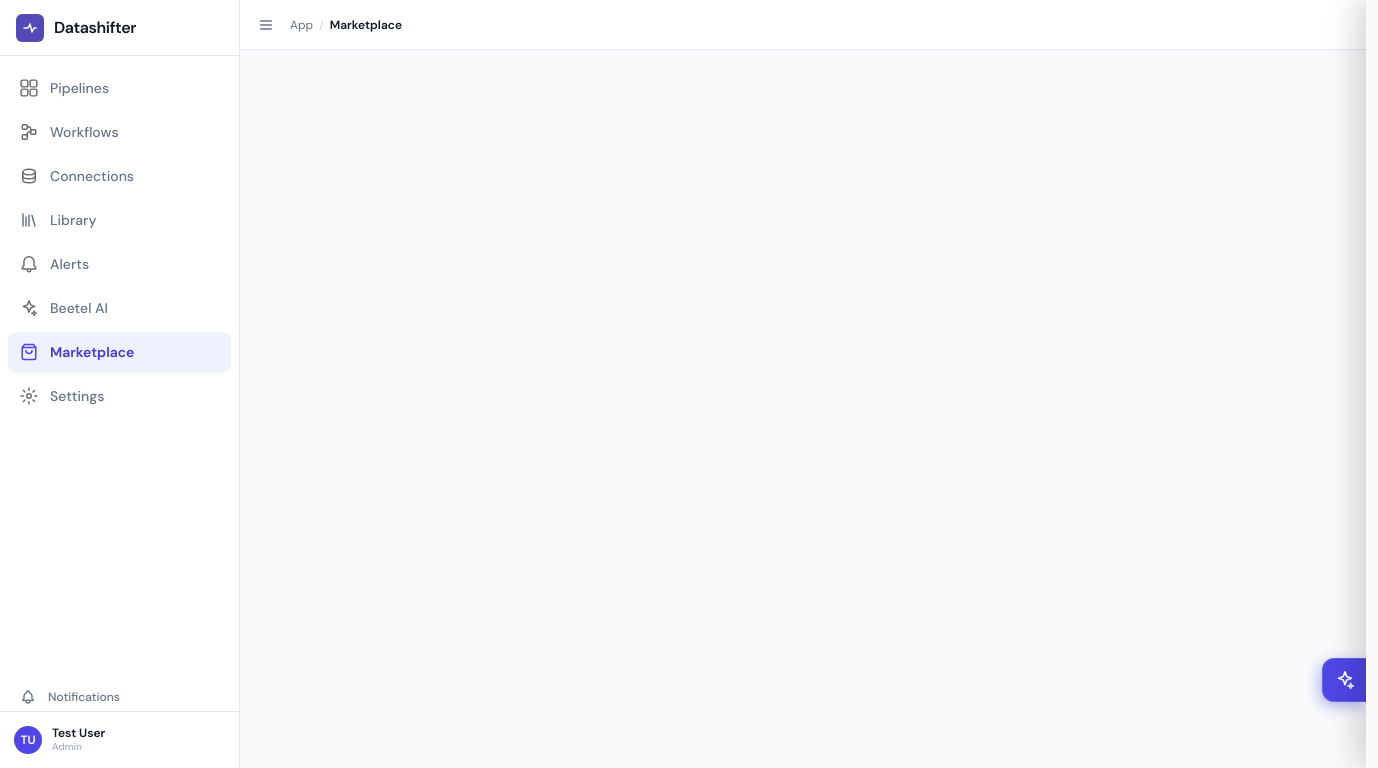
Modern Navigation Shell & Minimal Header Layout › AppLayout renders with single navicon toggle and toggles collapse state
Expected: the element with id "main-sidebar" is shown, [0,0,240,767]
Click the button with id "sidebar-collapse-toggle" at {"x": 266, "y": 24}, box [252,10,280,38]
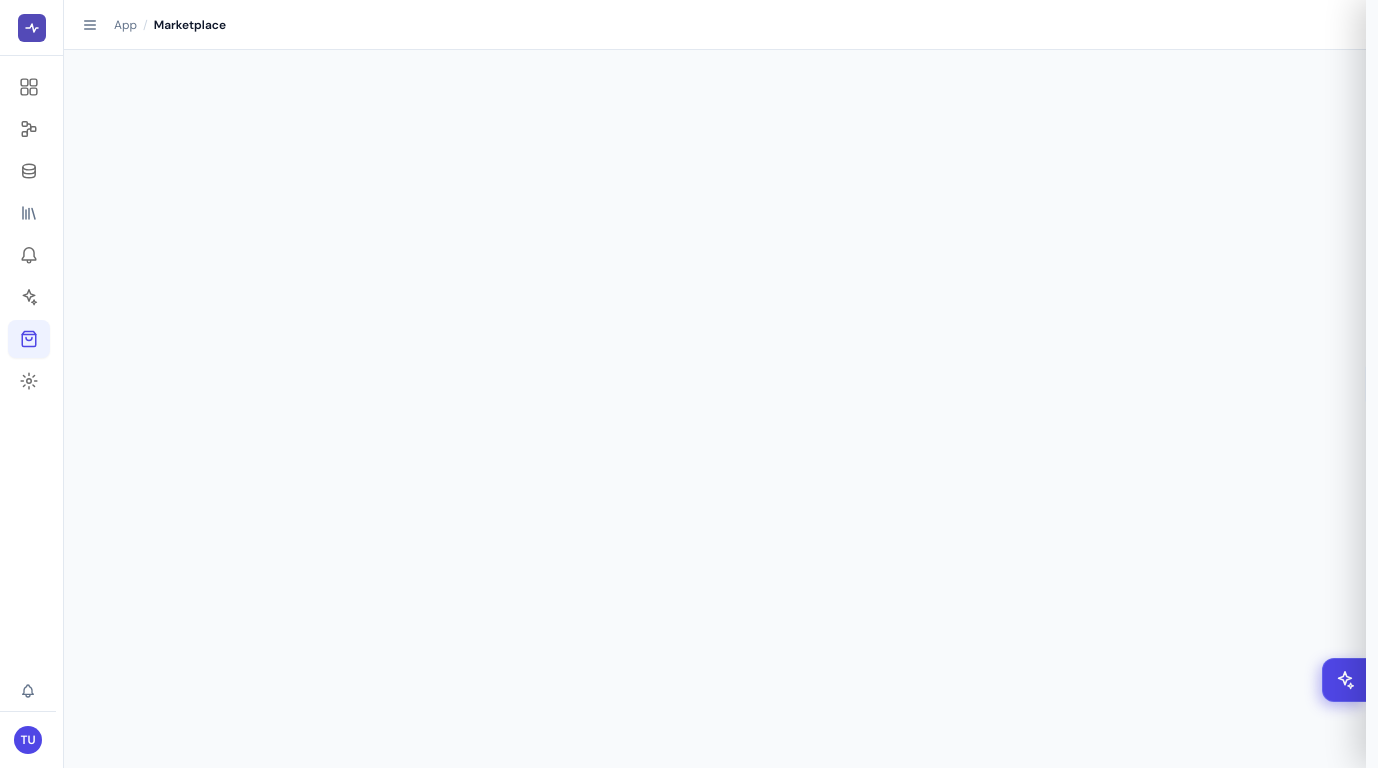
Result: the button with id "sidebar-collapse-toggle" is collapsed at [76,10,104,38]
